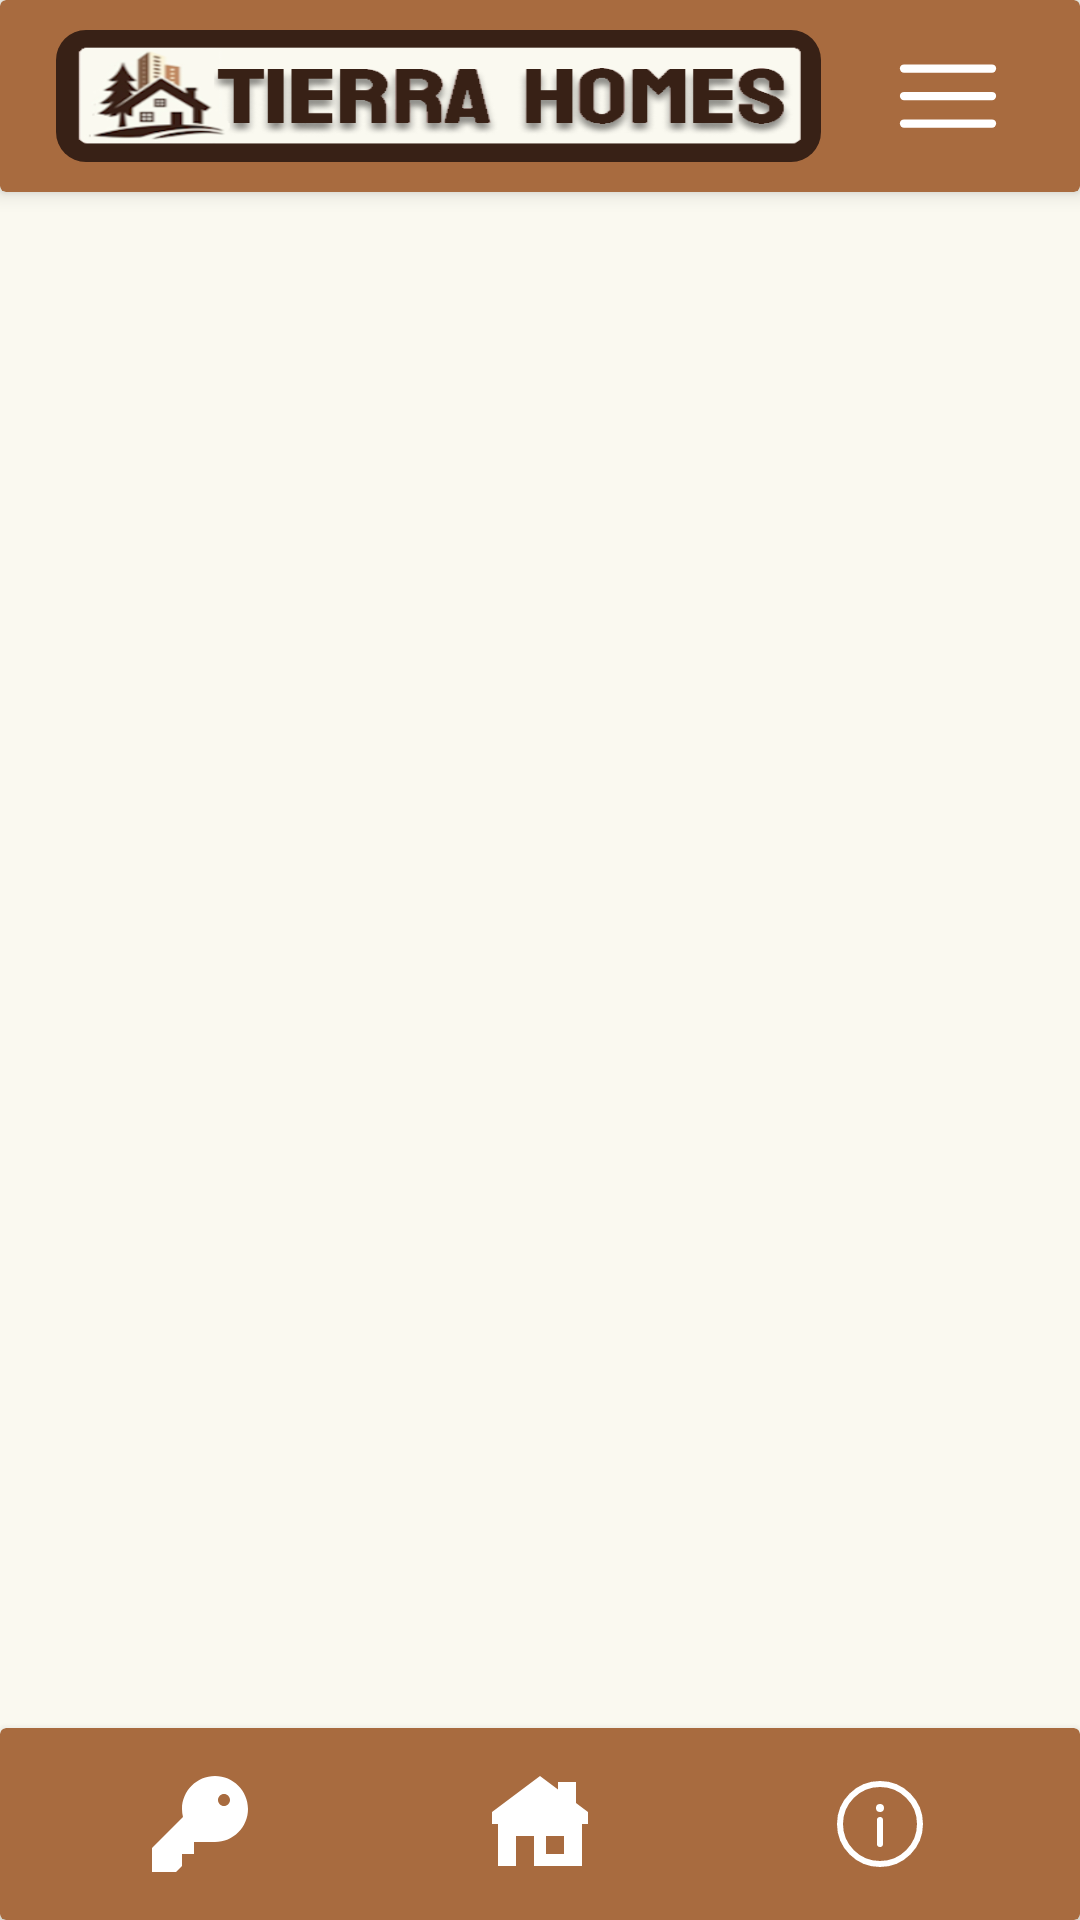

Named icons in this screenshot (1080 × 1920) and their centers, [x,y]:
home: [540,1821]
info: [880,1824]
key: [200,1824]
Menu: [947,96]
